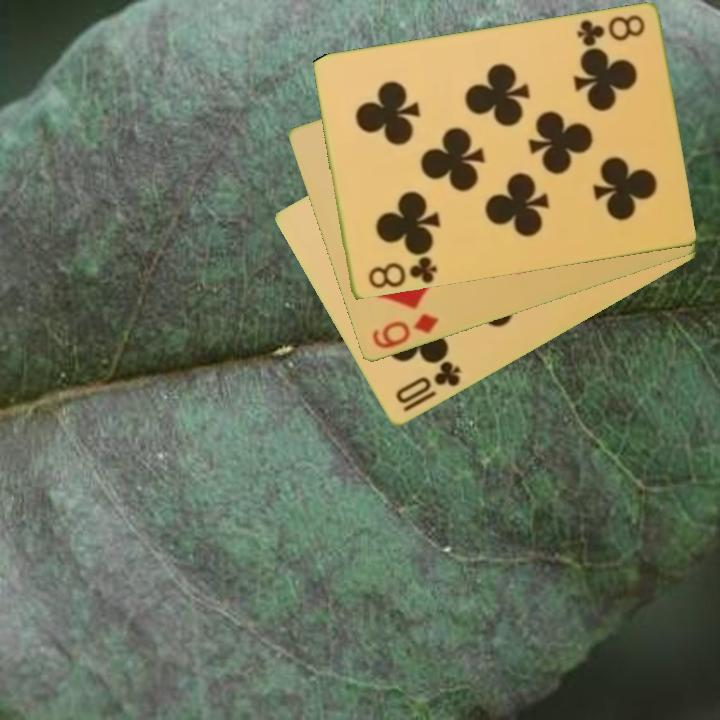10c: (392, 358, 464, 408)
6d: (368, 310, 441, 352)
8c: (364, 249, 440, 292), (572, 11, 648, 50)
